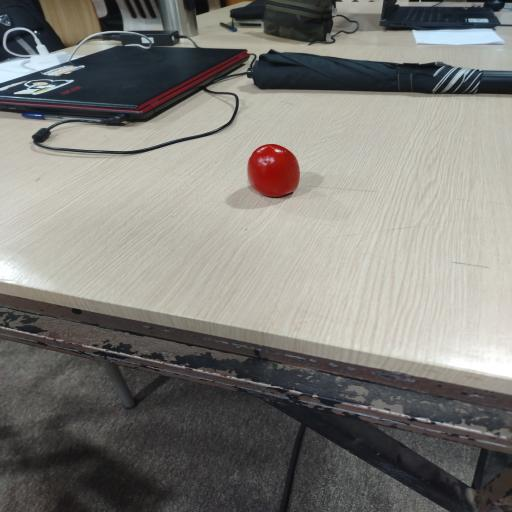spoiled: (248, 144, 299, 197)
